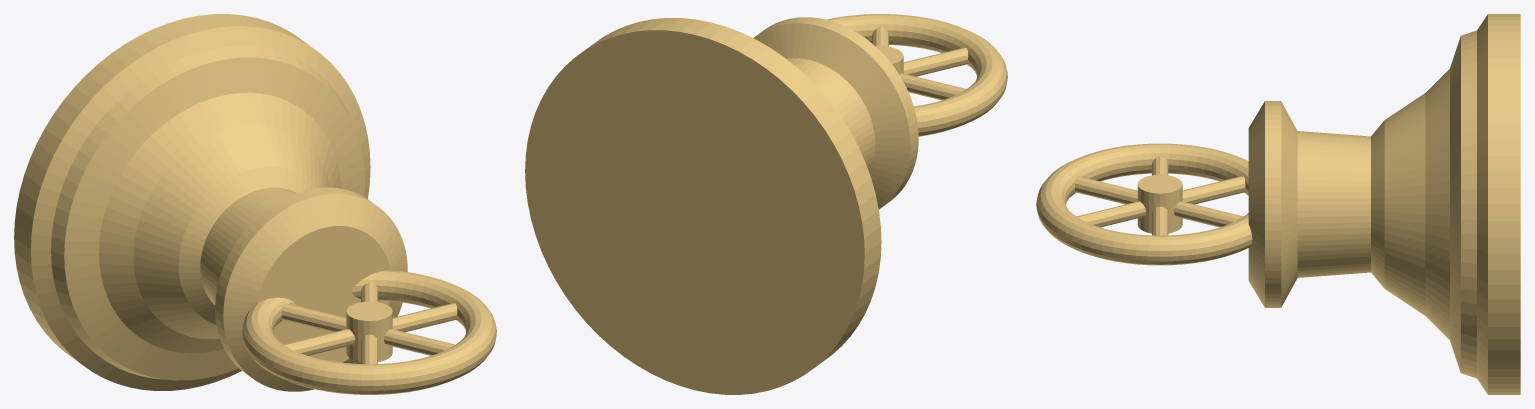
File: rath_surya.glb
3 views of the same model, side by side, from view 1: azimuth 30°, elevation 25°; view 2: azimuth 150°, elevation 25°; view 3: azimuth 270°, elevation 25° (orthographic). The views are drawn at different scales.
Visible parts, largest first — view 1: geometry_0; view 2: geometry_0; view 3: geometry_0.
Part boxes in pixels (x1,y1,x2,y2): geometry_0: (14,14,496,394); geometry_0: (525,14,1007,394); geometry_0: (1036,14,1520,394).
Size of the model in its own units: 0.028 by 0.028 by 0.0356.
